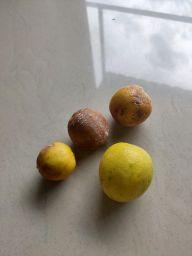lemon: (97, 141, 154, 204), (109, 84, 152, 129), (67, 107, 110, 149), (37, 141, 76, 182)
